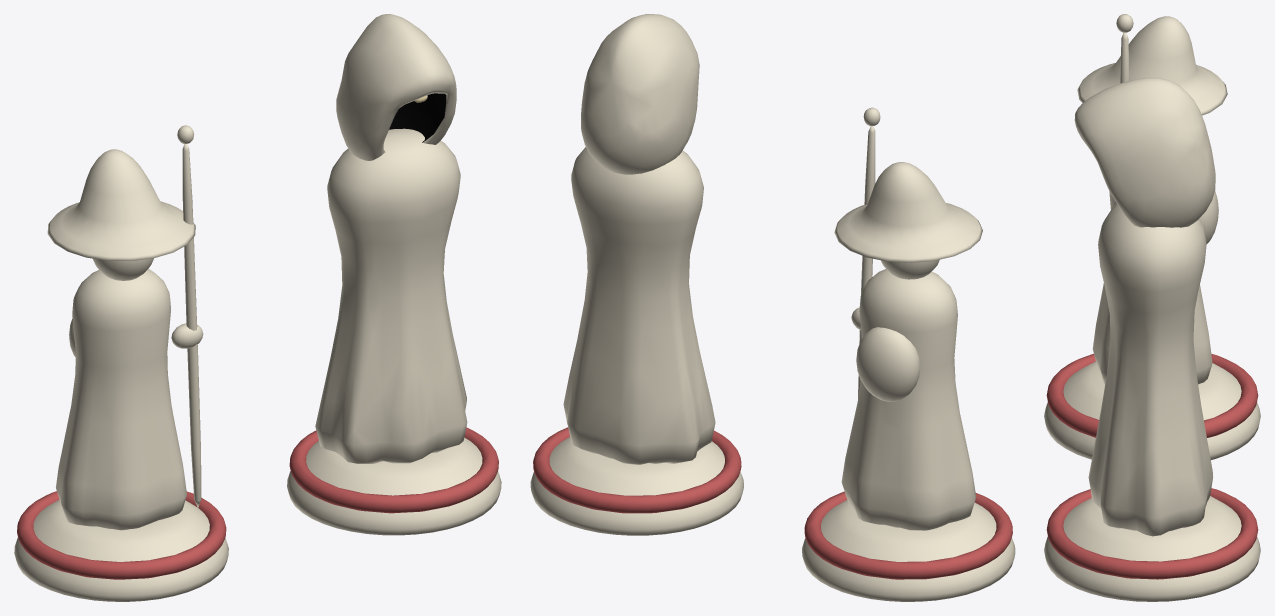
Rendered from pieces.glb.
3 views of the same model, side by side, from view 1: azimuth 30°, elevation 25°; view 2: azimuth 150°, elevation 25°; view 3: azimuth 270°, elevation 25° (orthographic).
Visible parts, largest first — view 1: shadow, traveller; view 2: shadow, traveller; view 3: shadow, traveller.
Boxes of the visible parts, x1,y1,x2,y2 form: shadow: [287, 14, 501, 535]; traveller: [14, 125, 228, 601]; shadow: [530, 14, 743, 535]; traveller: [802, 107, 1015, 601]; shadow: [1044, 77, 1260, 601]; traveller: [1044, 14, 1260, 459].
Size of the model in its own units: 0.101 by 0.1008 by 0.041.
